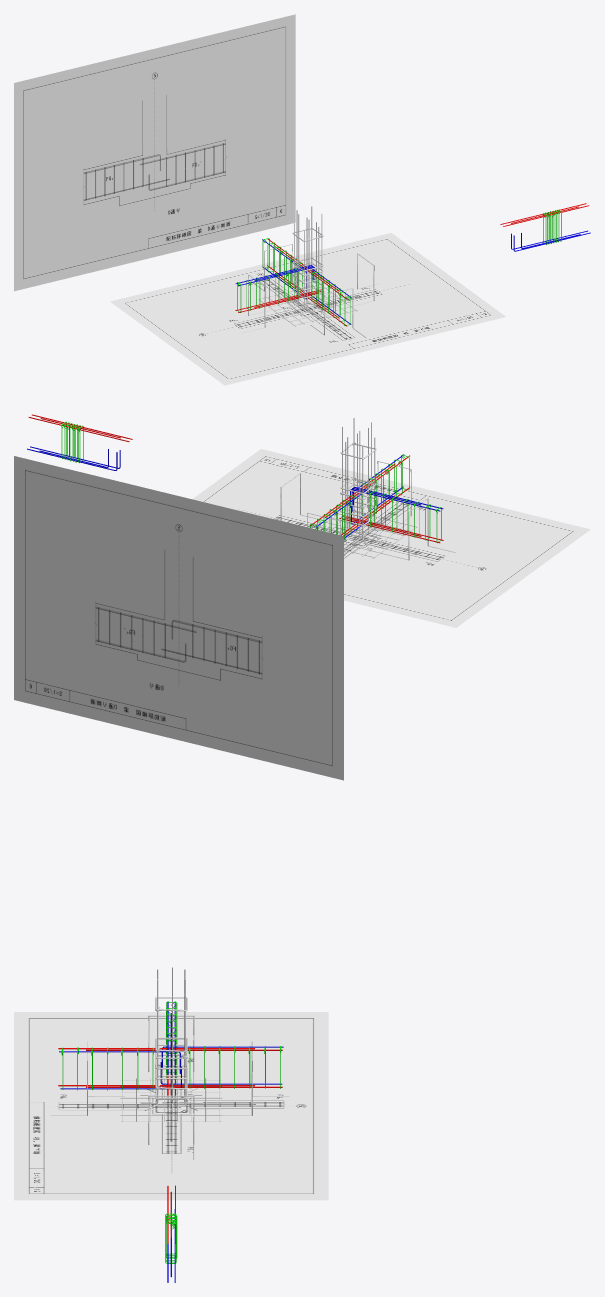
3 renders of one model, top to bottom at view 1: azimuth 30°, elevation 25°; view 2: azimuth 150°, elevation 25°; view 3: azimuth 270°, elevation 25°, orthographic. The views are drawn at different scales.
Parts seen in each view (by area): view 1: 平面.001, 平面, 1360.012; view 2: 平面.001, 平面, 1360.012; view 3: 平面, 1360.012.
Part boxes in pixels (x1,y1,x2,y2): 平面.001: (14, 14, 295, 291); 平面: (110, 233, 505, 385); 1360.012: (258, 284, 357, 326); 平面.001: (14, 456, 343, 780); 平面: (192, 449, 590, 627); 1360.012: (316, 509, 417, 558); 平面: (14, 1012, 328, 1200); 1360.012: (120, 1078, 222, 1121).
Size of the model in its own units: 8907 by 4200 by 7700.
9 materials, 2 textured.
